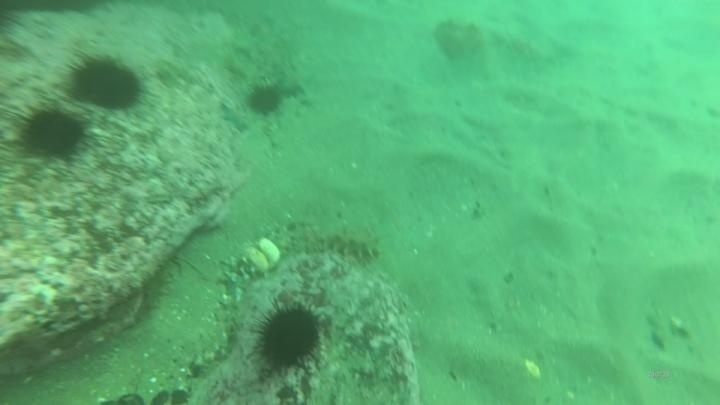echinus: (252, 300, 327, 374), (64, 50, 148, 114), (13, 101, 94, 165), (244, 81, 286, 118)
holothurian: (316, 224, 385, 264)
starfish: (273, 65, 310, 101), (218, 101, 252, 135)
